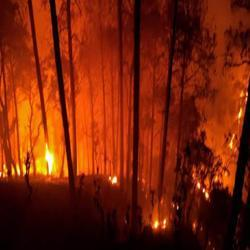fire: (39, 143, 58, 175), (153, 212, 169, 231), (109, 175, 120, 188)
